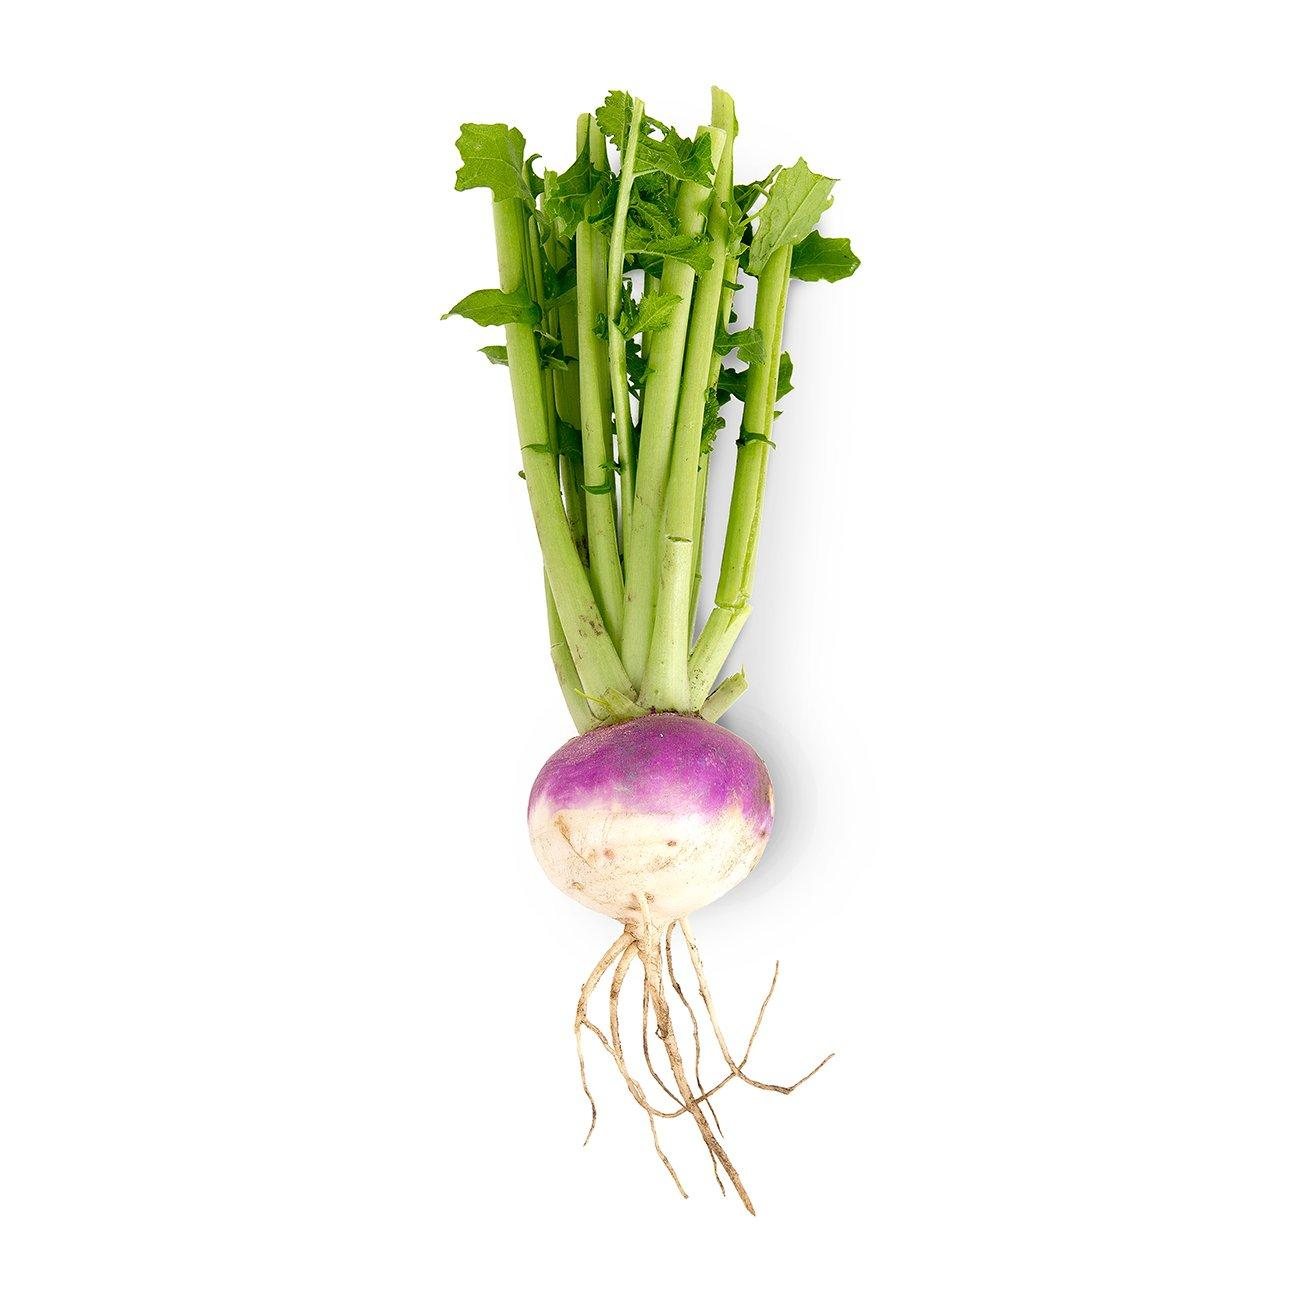sweetcorn: (439, 82, 861, 1215)
turnip: (523, 710, 833, 1215)
